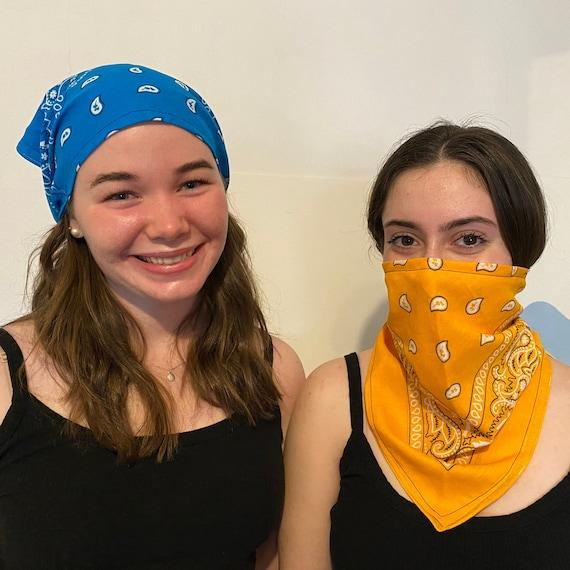scarf-kerchief: (371, 251, 540, 480), (19, 56, 247, 203)
